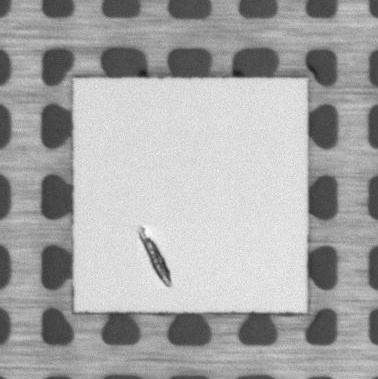DIE_INK: (134, 223, 176, 291)
